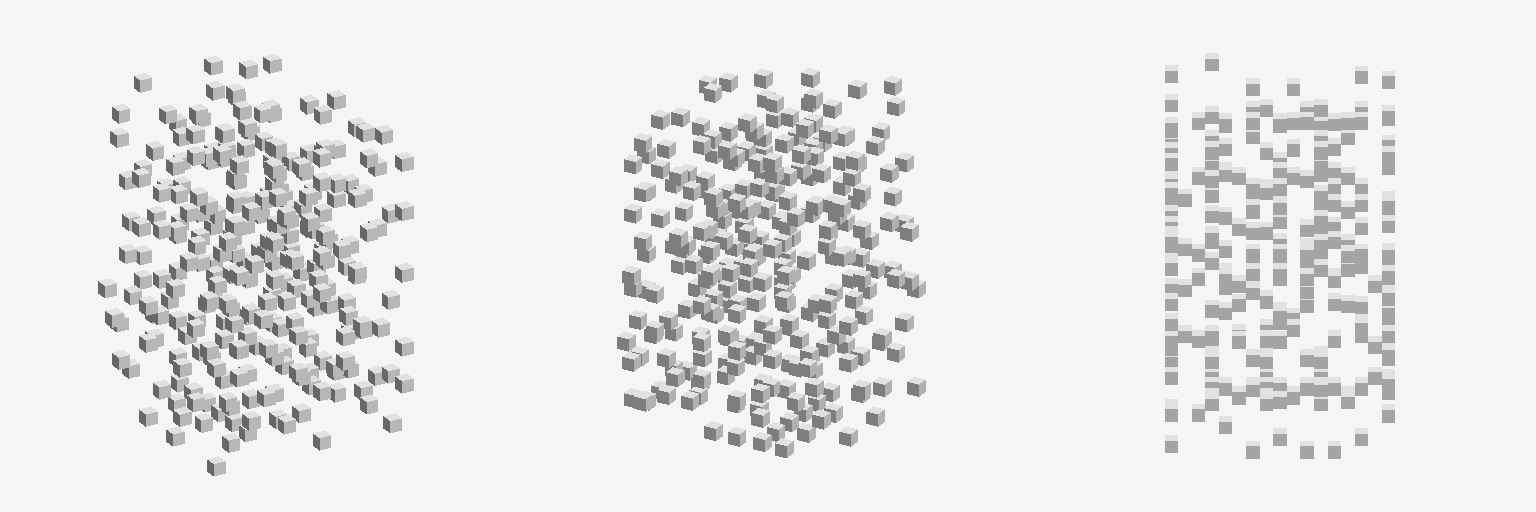
The model's file is fire-04.obj.
The picture shows the model from 3 angles: view 1: azimuth 30°, elevation 25°; view 2: azimuth 150°, elevation 25°; view 3: azimuth 270°, elevation 25°; orthographic projection.
Size of the model in its own units: 17 by 25 by 17.